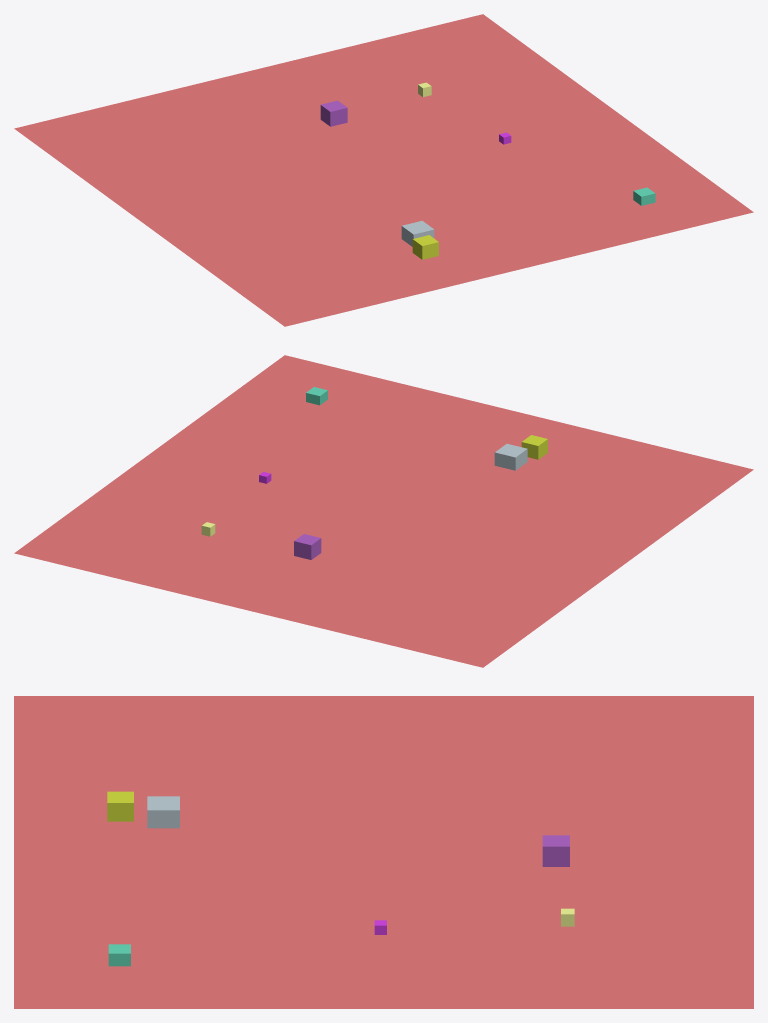
3 views of the same model, one above another, from view 1: azimuth 30°, elevation 25°; view 2: azimuth 150°, elevation 25°; view 3: azimuth 270°, elevation 25° (orthographic). The views are drawn at different scales.
Parts seen in each view (by area): view 1: Chunk_0_0; view 2: Chunk_0_0; view 3: Chunk_0_0.
Boxes of the visible parts, x1=… form: Chunk_0_0: x1=14, y1=14, x2=753, y2=326; Chunk_0_0: x1=14, y1=355, x2=753, y2=667; Chunk_0_0: x1=14, y1=696, x2=753, y2=1008.
Size of the model in its own units: 1500 by 71.56 by 1500.
